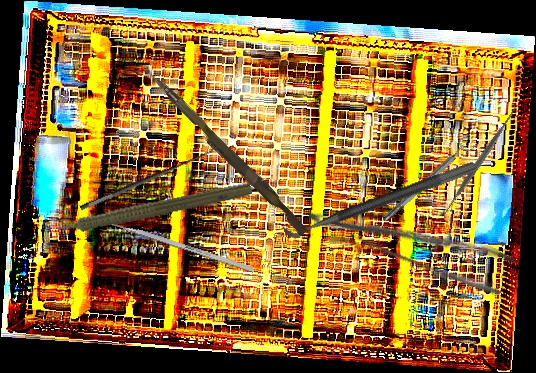Dressing Forceps: (305, 178, 516, 301)
Fixation Ring: (278, 145, 477, 242), (378, 134, 477, 226)
Handpiece: (39, 174, 254, 243)
Hook Surgical: (75, 138, 217, 213)
Pusher: (142, 71, 313, 237), (93, 215, 255, 273)
Spatula Surgical: (435, 102, 524, 223)
